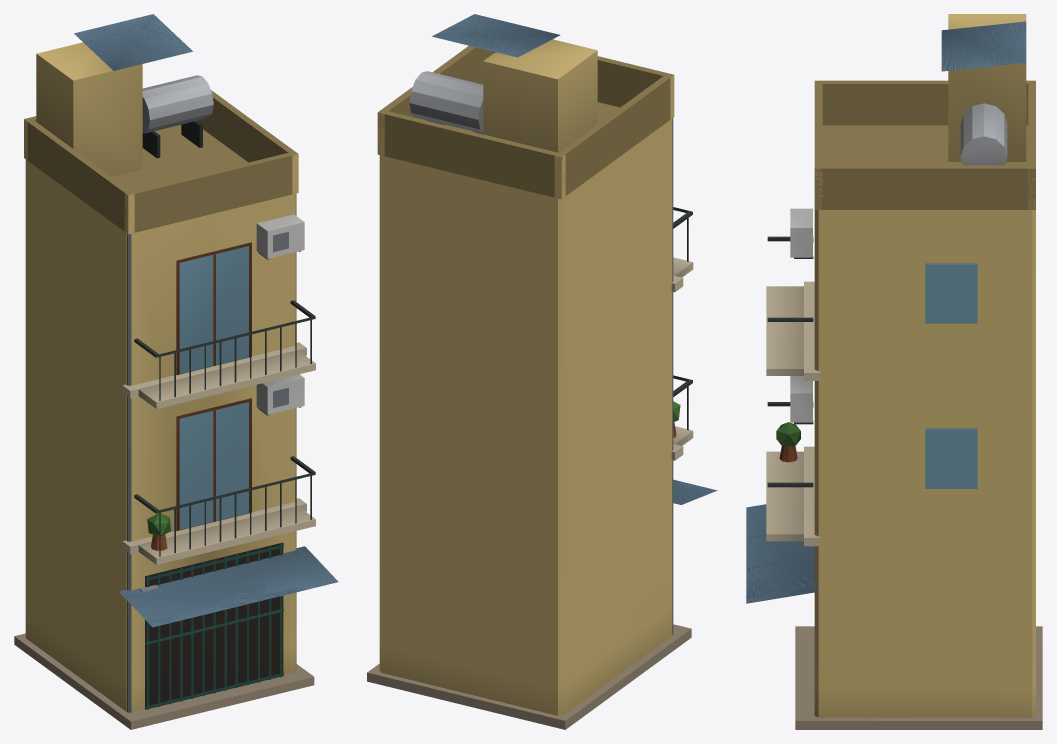
File: nha-ong-2-lau.glb
The picture shows the model from 3 angles, left to right: view 1: azimuth 30°, elevation 25°; view 2: azimuth 150°, elevation 25°; view 3: azimuth 270°, elevation 25°; orthographic projection. The views are drawn at different scales.
Visible parts, largest first — view 1: nha-ong-2-lau; view 2: nha-ong-2-lau; view 3: nha-ong-2-lau.
Boxes of the visible parts, <box> form: nha-ong-2-lau: <box>14,14,338,729</box>; nha-ong-2-lau: <box>367,14,717,729</box>; nha-ong-2-lau: <box>746,14,1042,729</box>.
Size of the model in its own units: 3.5 by 10.85 by 4.55.
